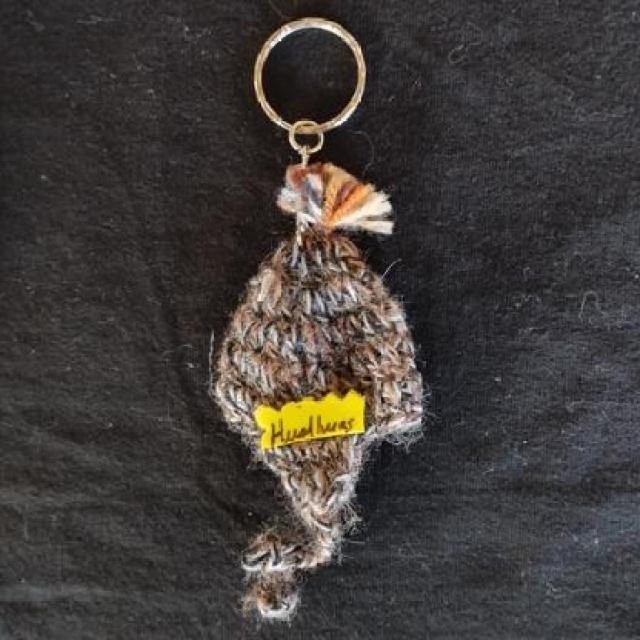Llavero: (207, 159, 428, 623)
